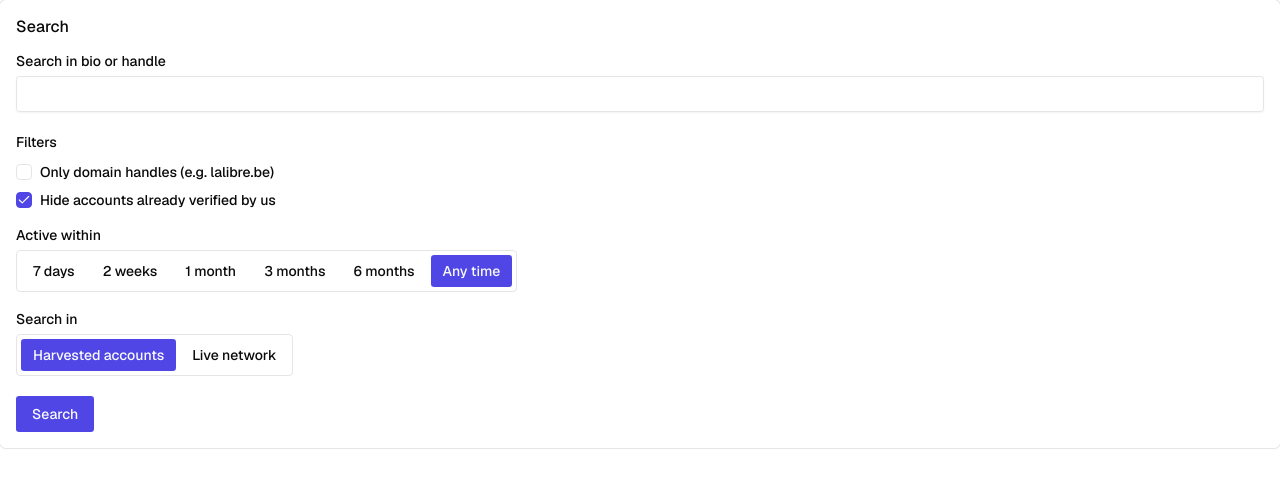
Test case: SearchForm › re-enables the activity control when switching back to harvested accounts
Step 1. Click the button "Live network" → [234, 355], box x1=180 y1=339 x2=288 y2=371
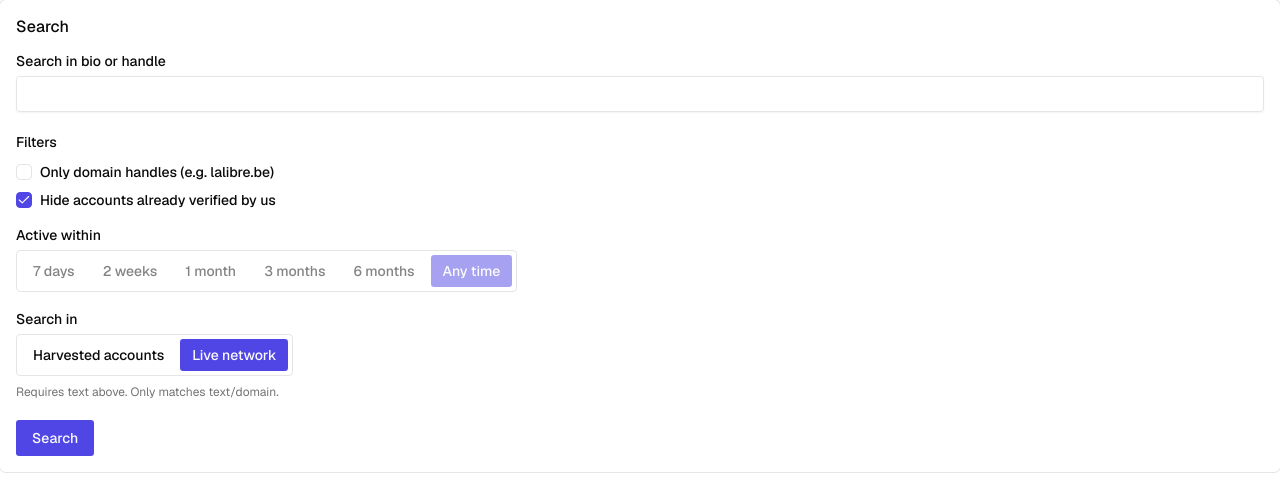
Step 2. Click the button "Harvested accounts" → [99, 355], box x1=21 y1=339 x2=176 y2=371
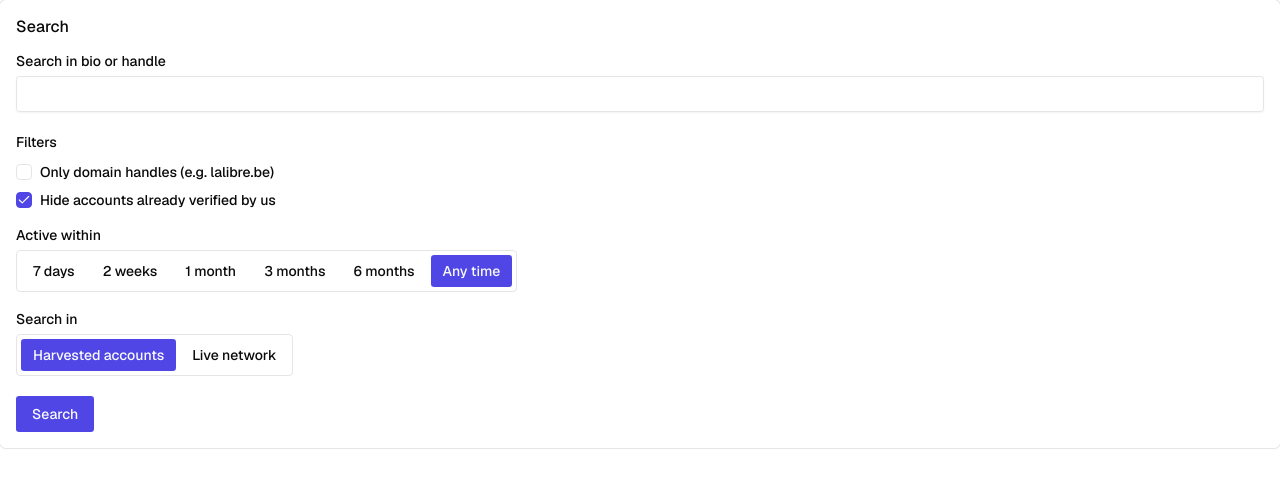
expect the button "1 month" is enabled: met, box x1=173 y1=255 x2=248 y2=287
